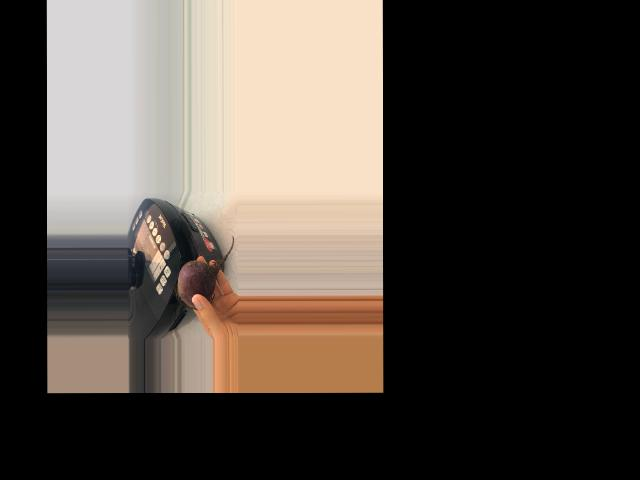beet: (175, 235, 234, 309)
